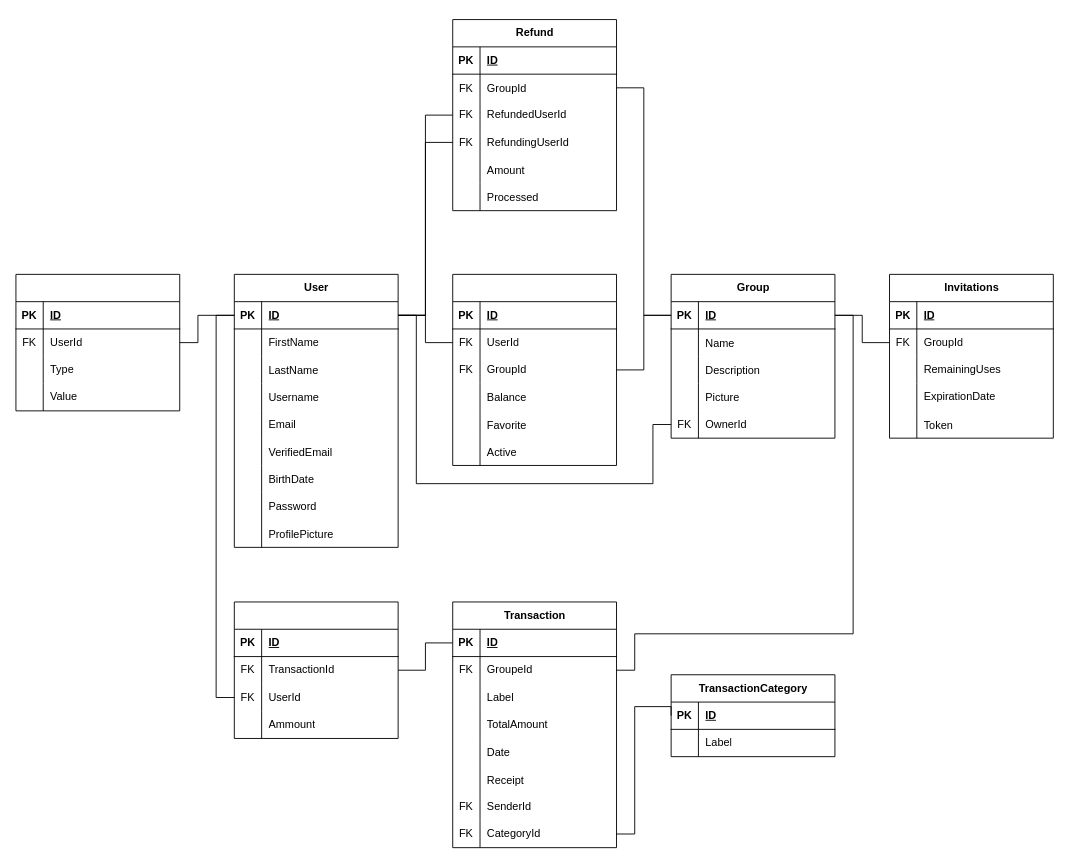
This 1069x864 diagram has some shape labels left out. The shapes that lost their labels are listed below. From the top down, each one's box as (x1, y1, x2, y2) in pixels, then its label:
(15, 273, 180, 411): UserPaymentMethod
(452, 273, 617, 465): UserGroup
(233, 601, 398, 738): TransactionUser
